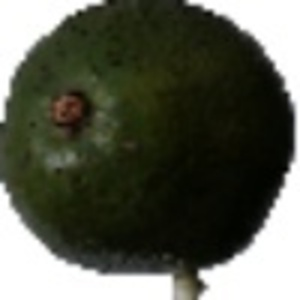abacate: (3, 2, 296, 271)
